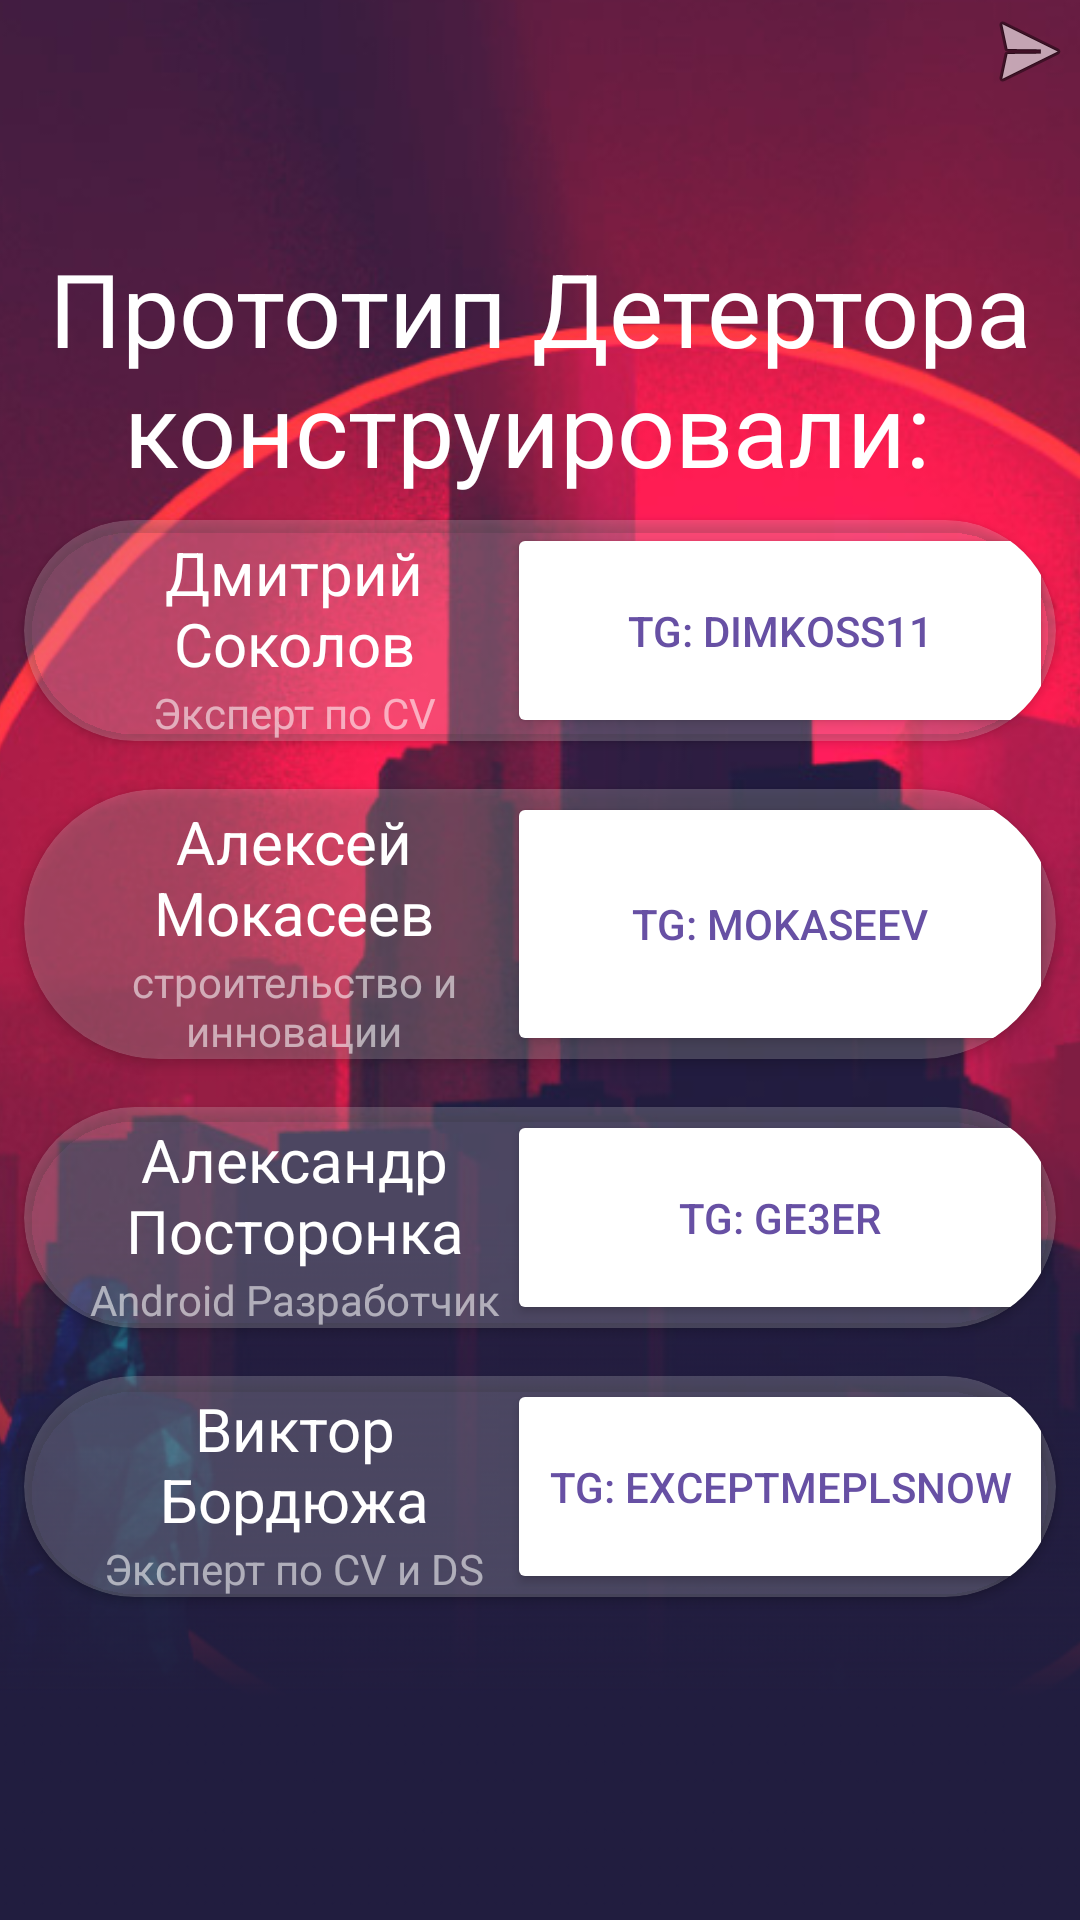

Icon click points for this 1080*1920 phone screenshot, format point (x, y):
дальше: point (1030, 51)
